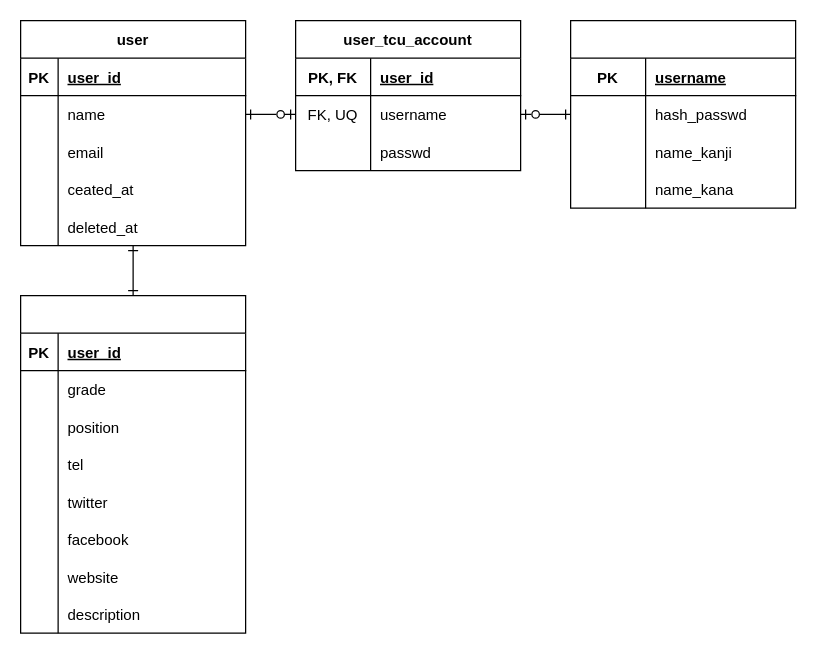
Image size: 816x654. Some labels were removed from this diagram. Each missing label, with the box of its shape:
tcu_account: (569, 19, 796, 208)
user_profile: (19, 294, 246, 633)
